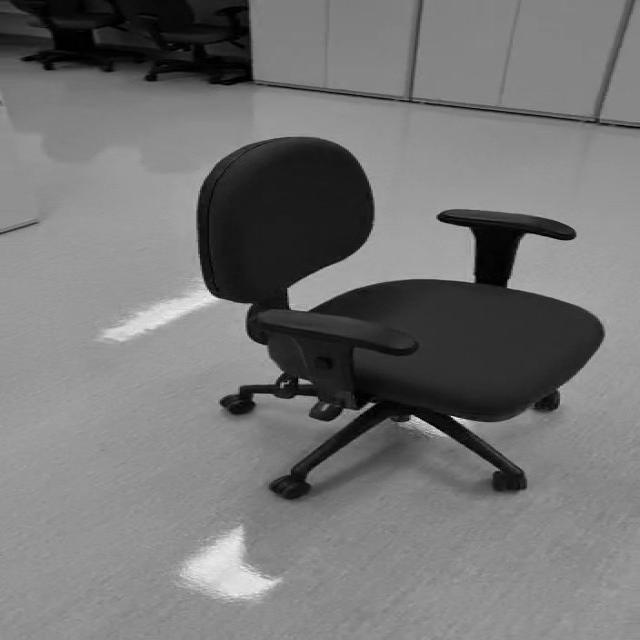cadeira-azul: (198, 138, 604, 498)
